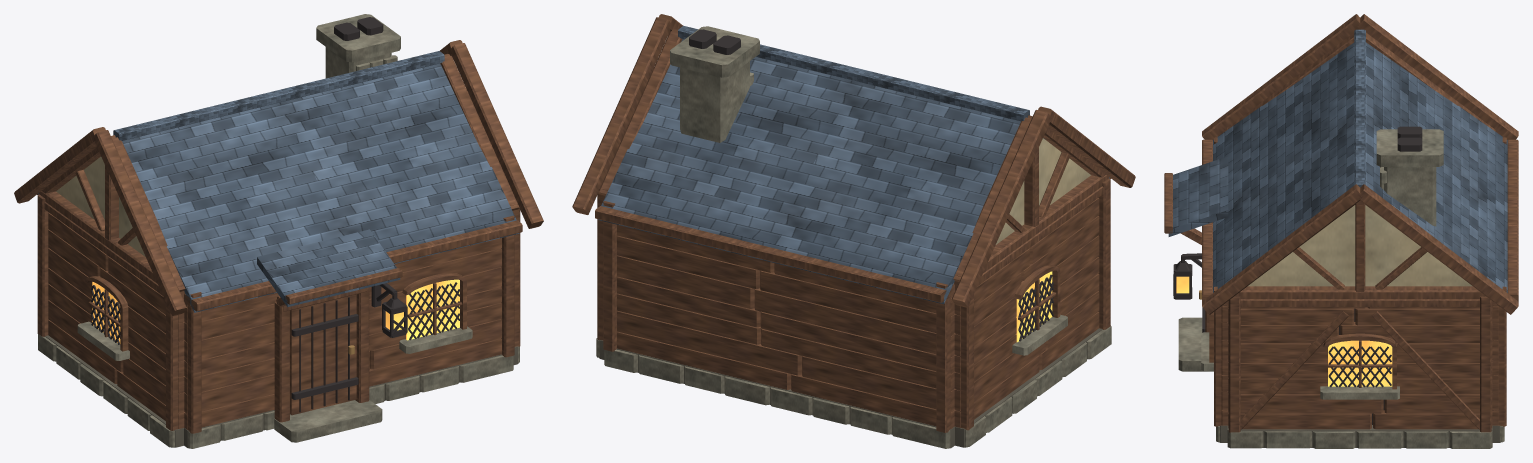
File: wooden_hut.glb
3 views of the same model, side by side, from view 1: azimuth 30°, elevation 25°; view 2: azimuth 150°, elevation 25°; view 3: azimuth 270°, elevation 25° (orthographic). The views are drawn at different scales.
Parts seen in each view (by area): view 1: Wooden Hut; view 2: Wooden Hut; view 3: Wooden Hut.
Boxes of the visible parts, x1,y1,x2,y2 form: Wooden Hut: (14, 14, 543, 448); Wooden Hut: (572, 14, 1135, 448); Wooden Hut: (1164, 14, 1518, 448).
Bounding box in the file's own units: 7.26 × 5.38 × 6.18.
9 materials, 6 textured.
